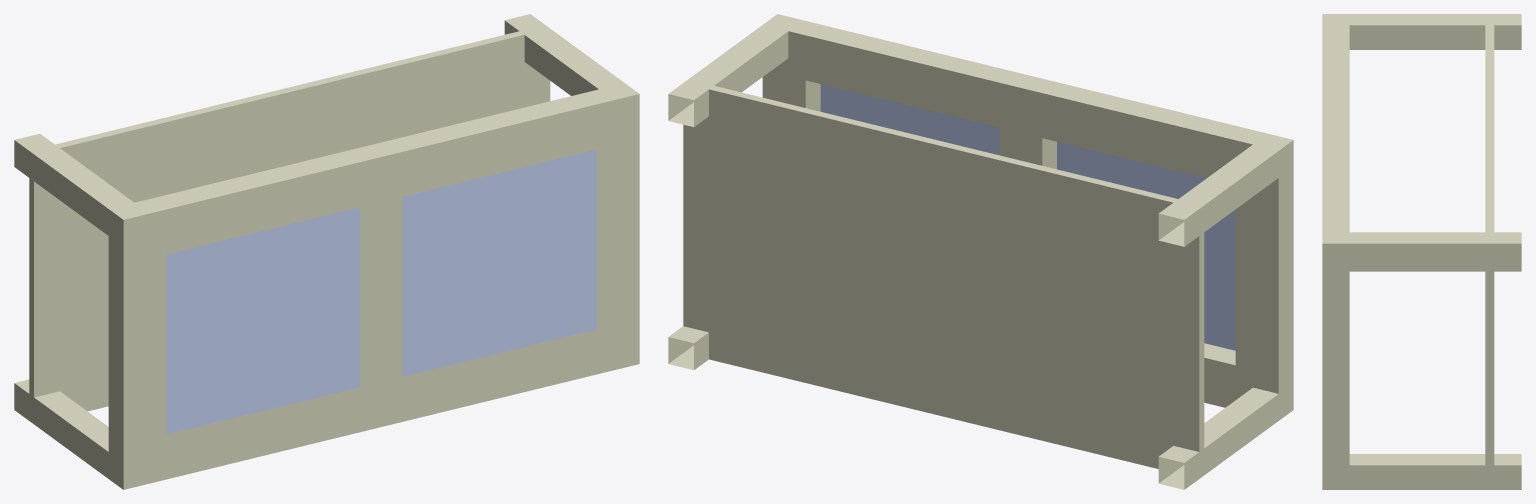
The picture shows the model from 3 angles, left to right: view 1: azimuth 30°, elevation 25°; view 2: azimuth 150°, elevation 25°; view 3: azimuth 270°, elevation 25°; orthographic projection. The views are drawn at different scales.
Parts seen in each view (by area): view 1: coffee table glass; view 2: coffee table glass; view 3: coffee table glass.
Part boxes in pixels (x1,y1,x2,y2): coffee table glass: (14,14,639,489); coffee table glass: (668,14,1293,489); coffee table glass: (1322,14,1521,489).
Bounding box in the file's own units: 60 × 30 × 22.
